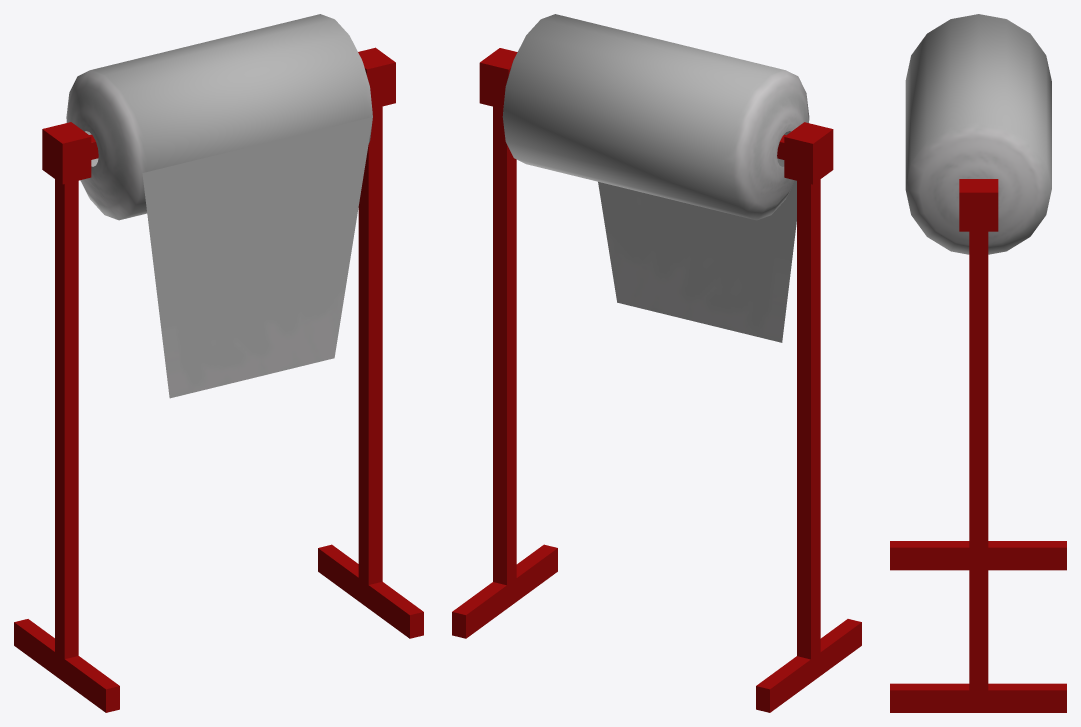
Rendered from Bolsas.obj.
3 renders of one model, left to right at view 1: azimuth 30°, elevation 25°; view 2: azimuth 150°, elevation 25°; view 3: azimuth 270°, elevation 25°, orthographic. The views are drawn at different scales.
Visible parts, largest first — view 1: Bolsas_Cube.009; view 2: Bolsas_Cube.009; view 3: Bolsas_Cube.009.
Boxes of the visible parts, x1,y1,x2,y2 form: Bolsas_Cube.009: (14, 14, 423, 712); Bolsas_Cube.009: (452, 14, 861, 712); Bolsas_Cube.009: (890, 14, 1066, 712).
Bounding box in the file's own units: 1.11 × 1.88 × 0.5279.
